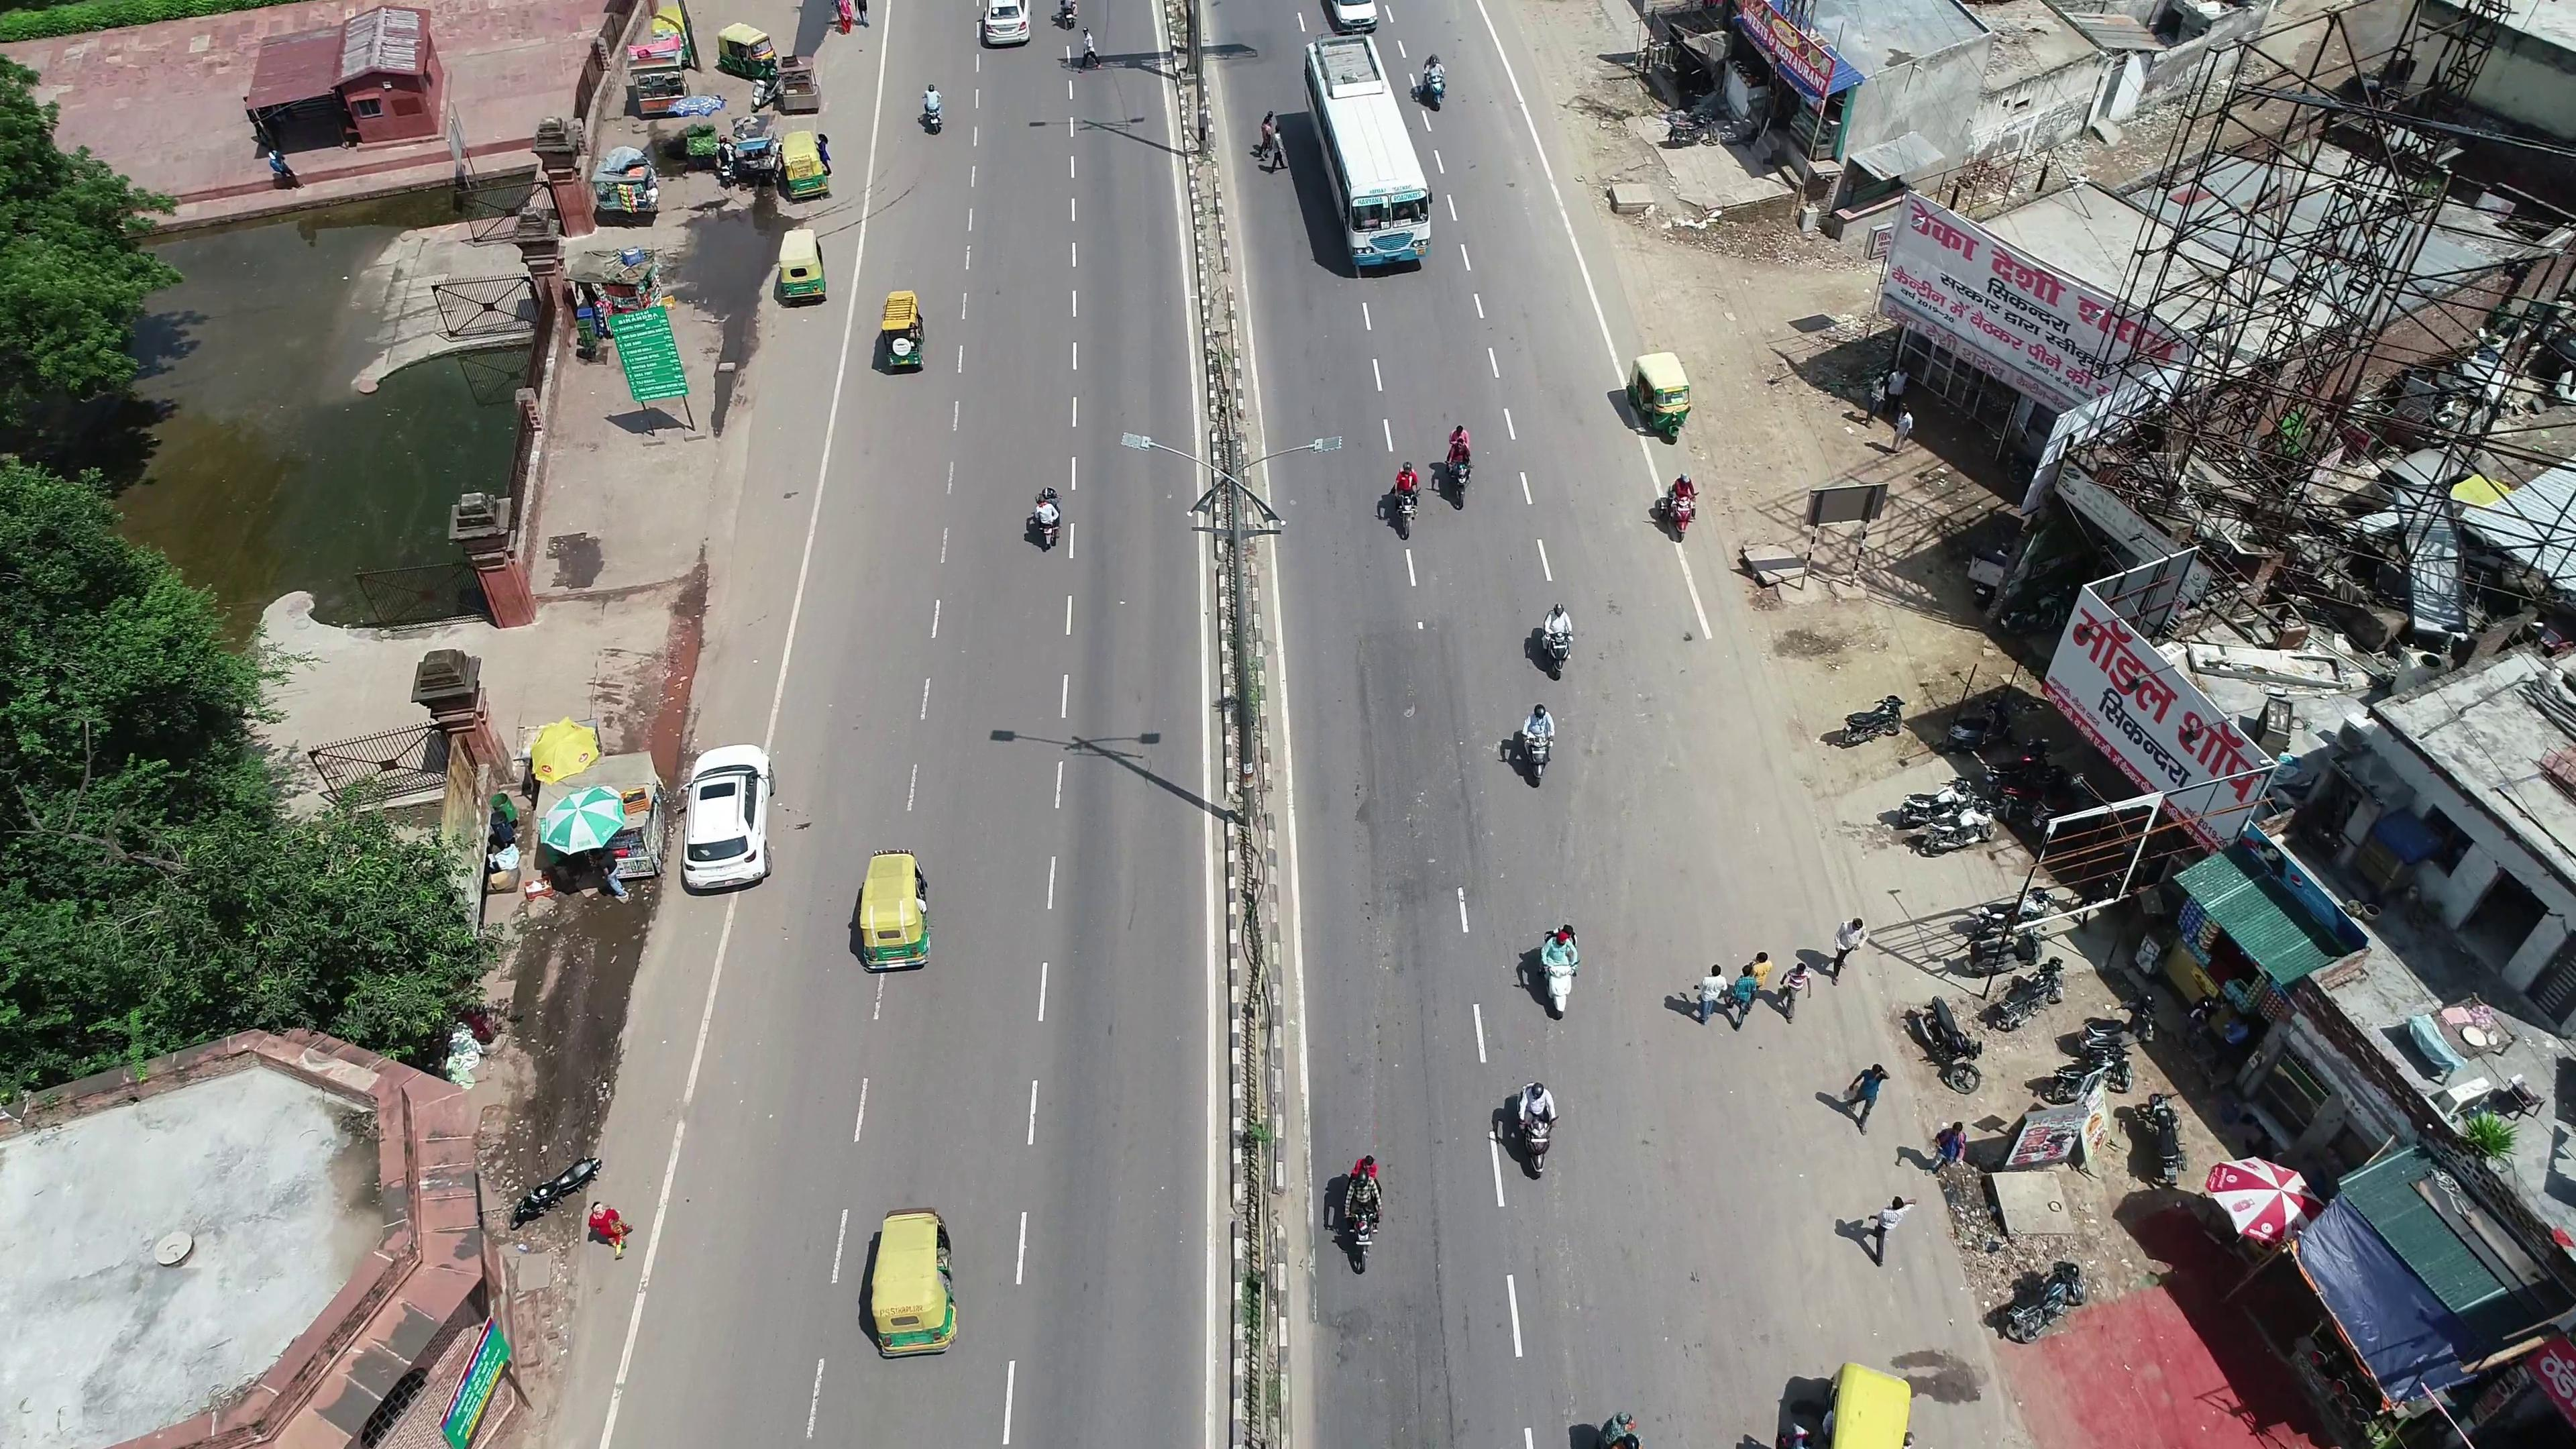Potholes: (1387, 672, 1435, 736)
